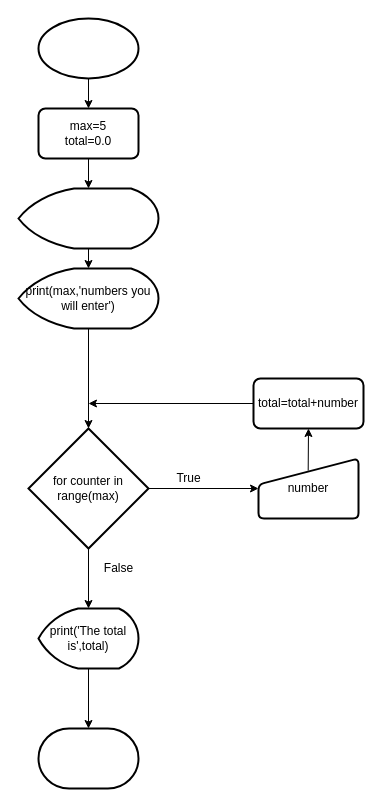
This 381x806 diagram has some shape labels left out. Each missing label, with the box of its shape:
end: (37, 727, 139, 789)
print('This program calculates the sum of'): (17, 187, 159, 249)
start: (37, 17, 139, 79)
